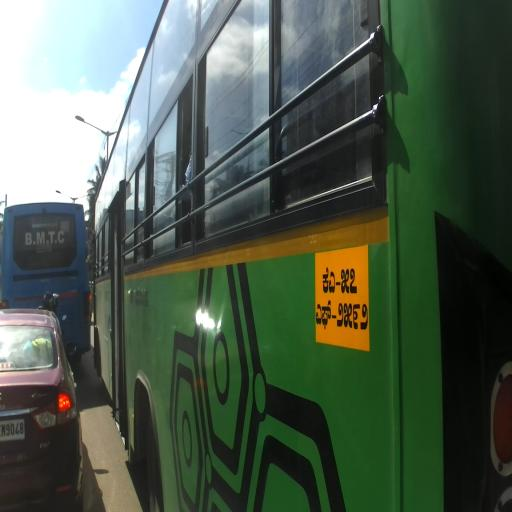street_light_0: (74, 115, 110, 145), (54, 189, 76, 203), (74, 194, 92, 206)
